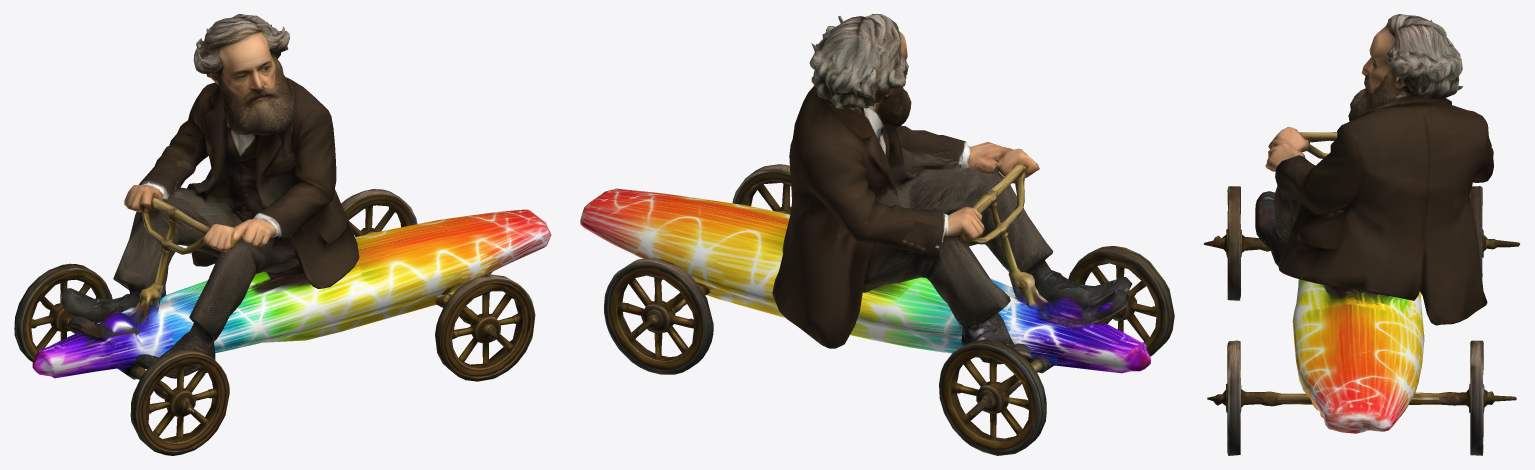
File: Meshy_AI_Rainbow_Rider_0518214428_texture.obj
The picture shows the model from 3 angles, left to right: view 1: azimuth 30°, elevation 25°; view 2: azimuth 150°, elevation 25°; view 3: azimuth 270°, elevation 25°; orthographic projection. The views are drawn at different scales.
Visible parts, largest first — view 1: Meshy_AI_Rainbow_Rider_0518214428_texture; view 2: Meshy_AI_Rainbow_Rider_0518214428_texture; view 3: Meshy_AI_Rainbow_Rider_0518214428_texture.
Boxes of the visible parts, x1,y1,x2,y2 form: Meshy_AI_Rainbow_Rider_0518214428_texture: (14, 14, 551, 455); Meshy_AI_Rainbow_Rider_0518214428_texture: (580, 14, 1174, 455); Meshy_AI_Rainbow_Rider_0518214428_texture: (1203, 14, 1519, 455).
Bounding box in the file's own units: 1.58 × 1 × 0.818.
Materials: 1 (1 with a texture image).
